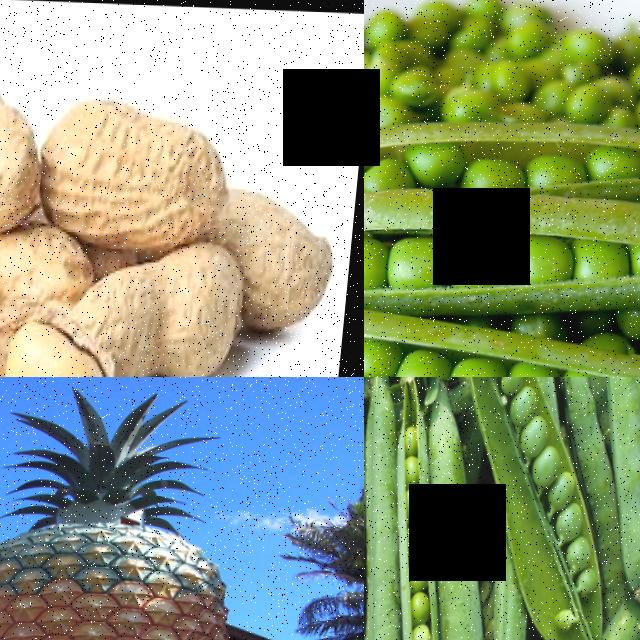peanuts: (36, 84, 236, 238), (104, 231, 251, 373), (240, 183, 345, 331), (0, 220, 98, 305), (5, 317, 120, 377), (0, 79, 43, 221)
peas: (364, 0, 640, 136), (364, 215, 640, 304), (364, 123, 640, 201), (379, 431, 468, 640), (364, 323, 640, 377), (514, 406, 599, 545), (480, 377, 542, 424)
